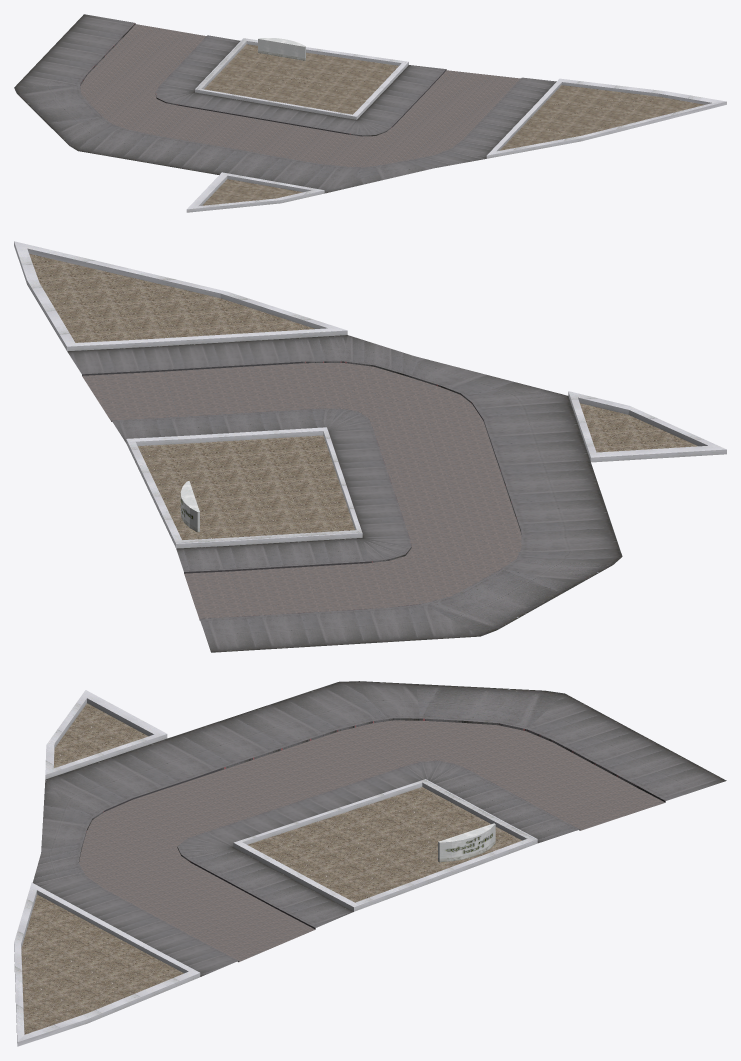
File: roadssfs39.obj
The picture shows the model from 3 angles, top to bottom: view 1: azimuth 30°, elevation 25°; view 2: azimuth 150°, elevation 25°; view 3: azimuth 270°, elevation 25°; orthographic projection. The views are drawn at different scales.
Visible parts, largest first — view 1: ROADSsfs39; view 2: ROADSsfs39; view 3: ROADSsfs39.
Part boxes in pixels (left/top/right/bottom): ROADSsfs39: left=14, top=14, right=726, bottom=212; ROADSsfs39: left=14, top=241, right=726, bottom=652; ROADSsfs39: left=14, top=681, right=726, bottom=1046.
Size of the model in its own units: 79.91 by 2.21 by 65.85.
6 materials, 6 textured.
